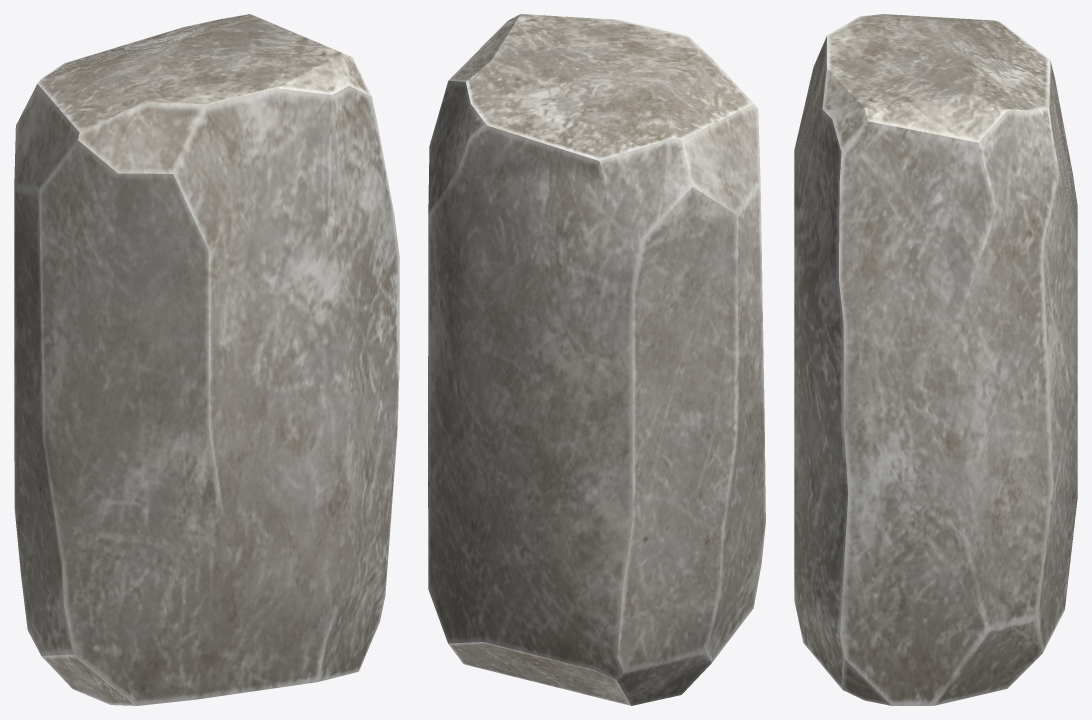
File: tall_rock_8_dream.glb
3 views of the same model, side by side, from view 1: azimuth 30°, elevation 25°; view 2: azimuth 150°, elevation 25°; view 3: azimuth 270°, elevation 25° (orthographic). The views are drawn at different scales.
Visible parts, largest first — view 1: tall_rock_8; view 2: tall_rock_8; view 3: tall_rock_8.
Part boxes in pixels (box(x1,y1,x2,y2)): tall_rock_8: box(14, 14, 399, 705); tall_rock_8: box(428, 14, 765, 705); tall_rock_8: box(794, 14, 1077, 705).
Size of the model in its own units: 22.96 by 42.1 by 18.39.
Materials: 1 (1 with a texture image).
